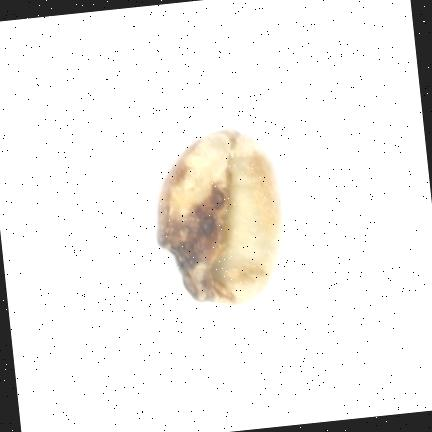partial-black: (159, 130, 282, 303)
